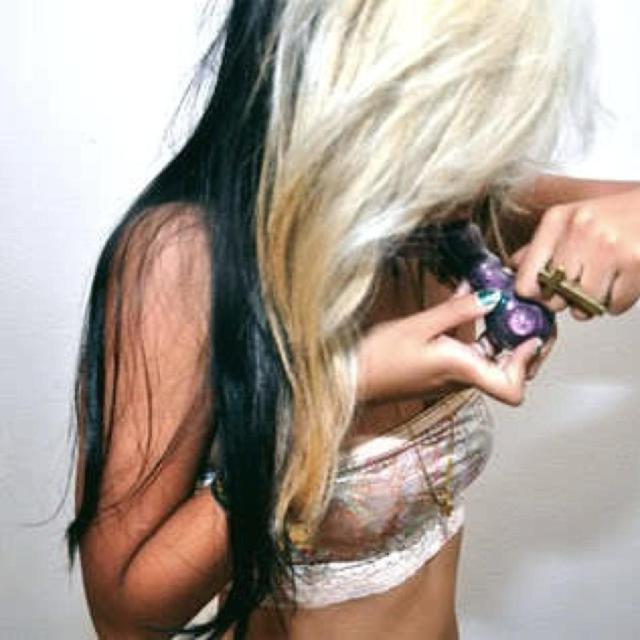smoking: (308, 0, 624, 391)
